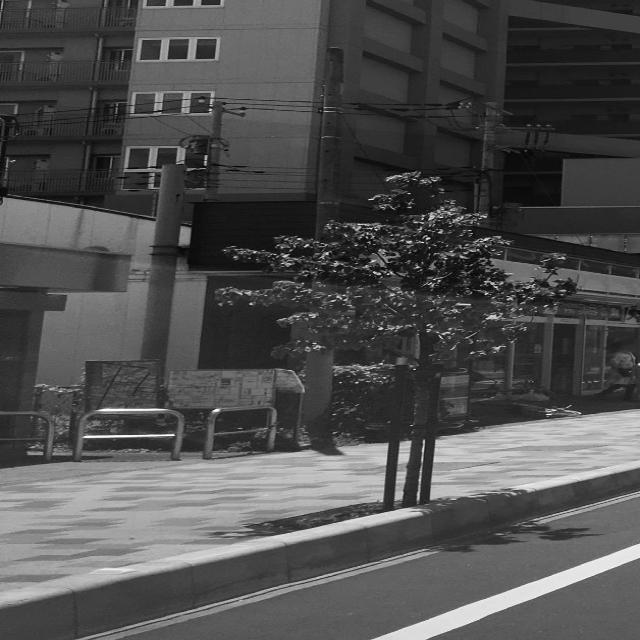dogwood: (214, 170, 585, 508)
